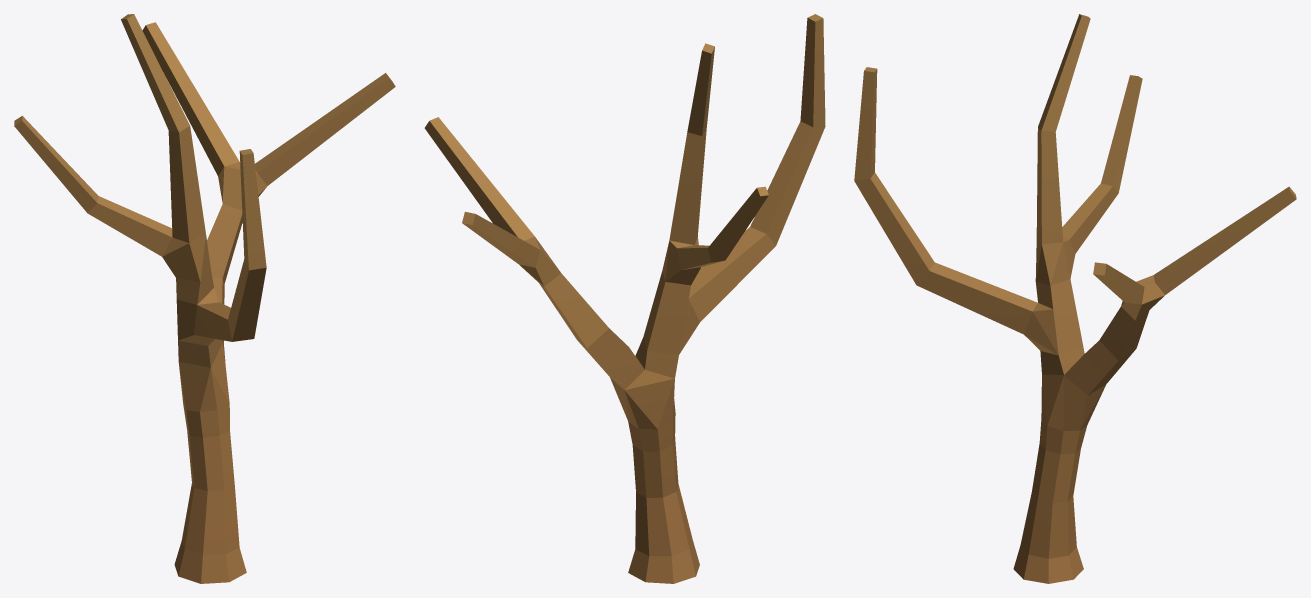
The model's file is LP_Tree_02_NL.fbx.
3 renders of one model, left to right at view 1: azimuth 30°, elevation 25°; view 2: azimuth 150°, elevation 25°; view 3: azimuth 270°, elevation 25°, orthographic. The views are drawn at different scales.
Parts seen in each view (by area): view 1: LP_Tree_02_NL_LOD0; view 2: LP_Tree_02_NL_LOD0; view 3: LP_Tree_02_NL_LOD0.
Boxes of the visible parts, x1,y1,x2,y2 form: LP_Tree_02_NL_LOD0: [14, 14, 395, 583]; LP_Tree_02_NL_LOD0: [424, 14, 825, 583]; LP_Tree_02_NL_LOD0: [854, 14, 1296, 583].
Size of what is drawn, in the model's own units: 3.16 by 4.64 by 3.54.
